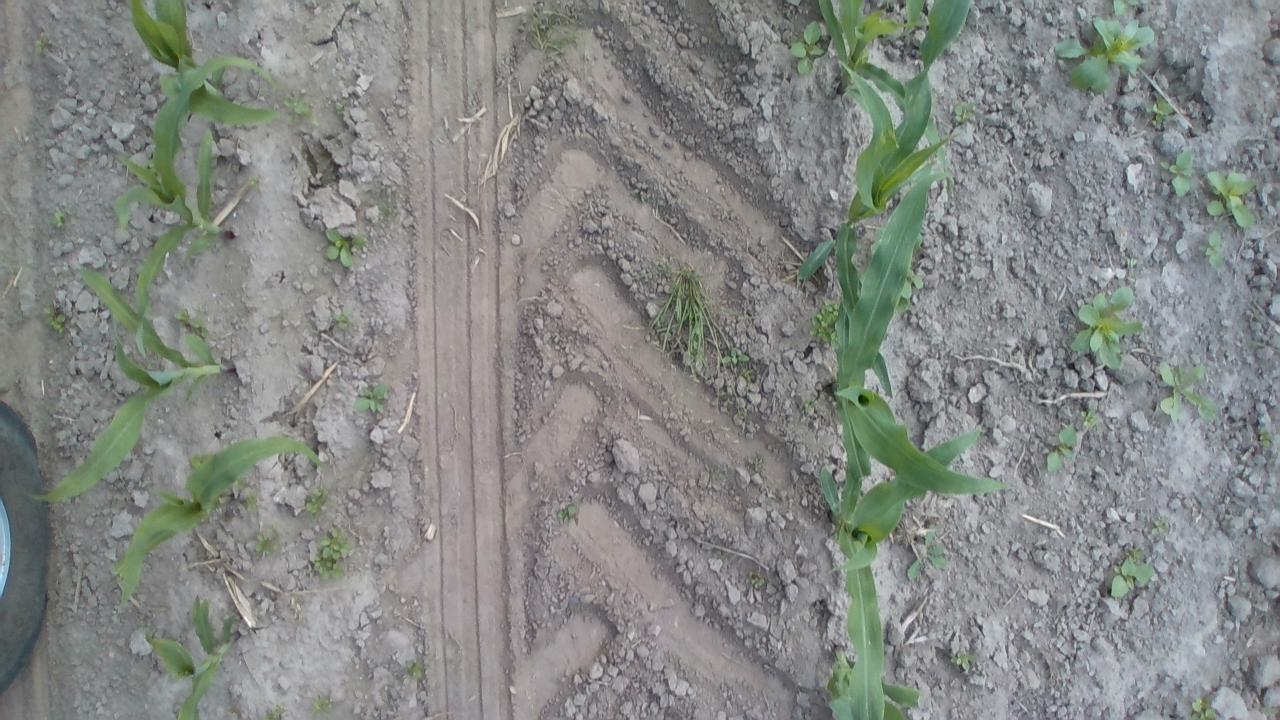Maize: (792, 0, 976, 401), (828, 176, 1011, 516), (17, 256, 242, 504), (108, 51, 275, 363), (816, 421, 982, 720), (110, 430, 328, 616), (812, 0, 946, 171), (126, 0, 283, 128), (142, 599, 245, 720), (822, 639, 924, 720), (905, 0, 927, 35)
Weeds: (639, 255, 722, 371), (1052, 15, 1154, 99), (1068, 283, 1144, 371), (1156, 356, 1218, 424), (1204, 165, 1260, 229), (522, 0, 577, 59), (311, 524, 354, 582), (904, 528, 948, 582), (320, 229, 370, 271), (1164, 145, 1201, 201), (789, 14, 822, 76), (1110, 557, 1152, 599), (1045, 420, 1077, 472), (810, 297, 838, 349), (1198, 229, 1230, 272), (282, 87, 313, 129), (353, 382, 389, 417), (170, 307, 207, 336), (37, 303, 70, 333), (371, 185, 395, 224), (304, 480, 328, 517), (1152, 93, 1174, 131), (1190, 693, 1218, 720), (720, 346, 750, 371), (948, 649, 976, 674), (627, 182, 657, 205), (257, 534, 285, 558), (950, 99, 976, 124), (1148, 512, 1170, 538), (334, 304, 354, 328), (312, 690, 330, 716), (48, 207, 68, 230), (1079, 406, 1098, 429), (1252, 426, 1273, 446), (746, 451, 766, 472), (34, 32, 50, 57), (263, 703, 286, 720), (557, 506, 578, 524), (244, 489, 258, 516), (745, 573, 766, 590), (404, 657, 421, 678), (1122, 544, 1142, 561), (709, 464, 725, 482), (1260, 704, 1278, 719), (802, 396, 816, 414), (190, 454, 206, 467), (1112, 0, 1124, 15), (248, 174, 260, 188), (738, 368, 752, 380), (334, 102, 346, 115), (1128, 0, 1138, 8)
